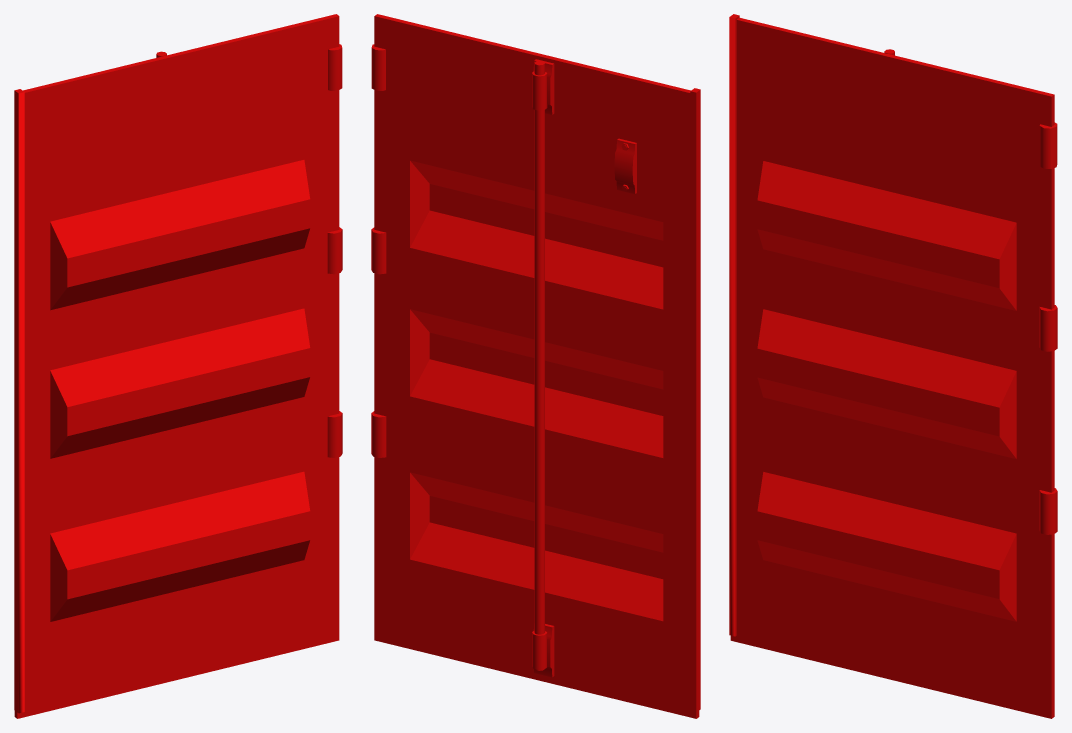
File: Container_01_Door_Lod0.fbx
The picture shows the model from 3 angles, left to right: view 1: azimuth 30°, elevation 25°; view 2: azimuth 150°, elevation 25°; view 3: azimuth 330°, elevation 25°; orthographic projection.
Parts seen in each view (by area): view 1: Container_01_Door_Lod0; view 2: Container_01_Door_Lod0; view 3: Container_01_Door_Lod0.
Part boxes in pixels (box(x1,y1,x2,y2)): Container_01_Door_Lod0: box(14, 14, 342, 718); Container_01_Door_Lod0: box(371, 14, 700, 718); Container_01_Door_Lod0: box(729, 14, 1057, 718).
Bounding box in the file's own units: 123 × 227 × 15.
